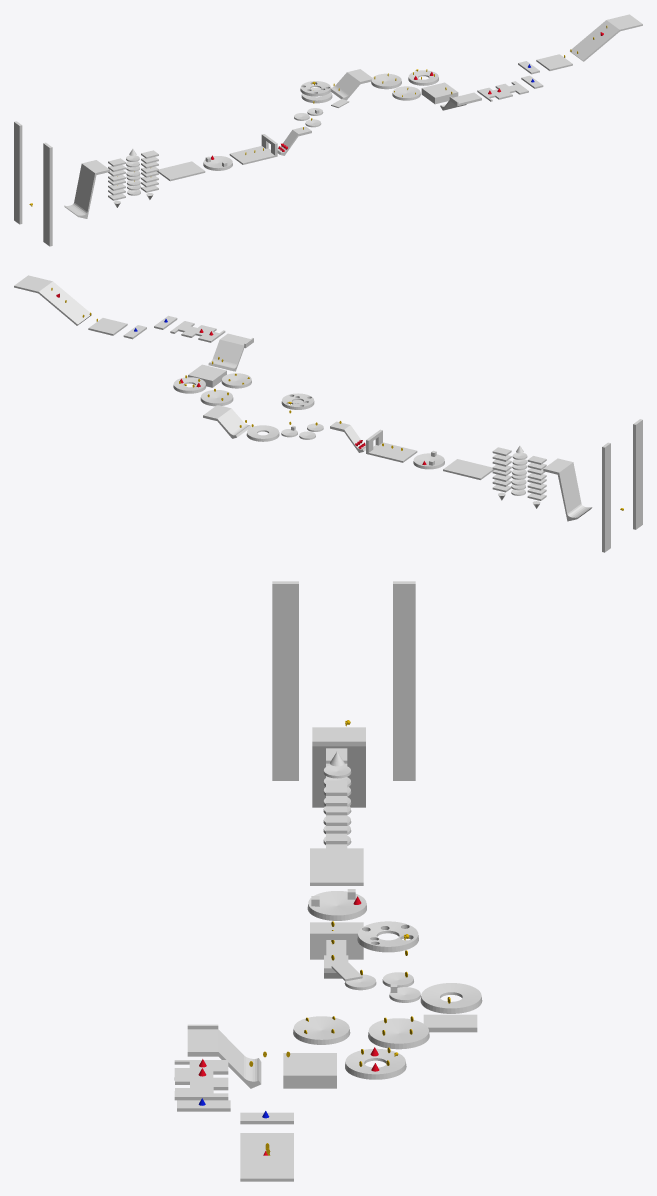
The model's file is LDD-2.fbx.
3 renders of one model, top to bottom at view 1: azimuth 30°, elevation 25°; view 2: azimuth 150°, elevation 25°; view 3: azimuth 270°, elevation 25°, orthographic. The views are drawn at different scales.
Parts seen in each view (by area): view 1: Cube.048, Cube.047, Cube.027, Cube.039, Cube.034, Cube.022, Cube.033, Cube.031, Torus.005, Cube.032, Cube.028, Torus.019 (+4 smaller); view 2: Cube.048, Cube.047, Cube.032, Cube.027, Cube.039, Cube.034, Cube.022, Cube.031, Cube.033, Torus.005, Torus.006, Cube.028 (+3 smaller); view 3: Cube.048, Cube.047, Cube.032, Cube.022, Cube.031, Cube.033, Cube.039, Torus.005, Torus.006, Torus.019, Cube.026, Torus.004 (+4 smaller).
Part boxes in pixels (bbox=[...]): Cube.048: bbox=[14, 121, 52, 246]; Cube.047: bbox=[64, 160, 109, 218]; Cube.027: bbox=[570, 20, 620, 61]; Cube.039: bbox=[229, 134, 277, 164]; Cube.034: bbox=[331, 69, 371, 100]; Cube.022: bbox=[157, 161, 205, 181]; Cube.033: bbox=[421, 82, 458, 104]; Cube.031: bbox=[477, 81, 528, 101]; Torus.005: bbox=[371, 73, 401, 89]; Cube.032: bbox=[440, 92, 481, 110]; Cube.028: bbox=[536, 54, 572, 70]; Torus.019: bbox=[300, 81, 331, 96]; Cube.048: bbox=[602, 419, 642, 552]; Cube.047: bbox=[543, 458, 592, 521]; Cube.032: bbox=[208, 333, 253, 371]; Cube.027: bbox=[38, 281, 91, 325]; Cube.039: bbox=[366, 429, 417, 462]; Cube.034: bbox=[203, 405, 250, 438]; Cube.022: bbox=[443, 459, 494, 479]; Cube.031: bbox=[170, 321, 225, 342]; Cube.033: bbox=[188, 364, 226, 387]; Torus.005: bbox=[200, 390, 233, 406]; Torus.006: bbox=[246, 425, 279, 441]; Cube.028: bbox=[88, 318, 127, 335]; Cube.048: bbox=[272, 581, 415, 780]; Cube.047: bbox=[312, 727, 365, 807]; Cube.032: bbox=[187, 1024, 261, 1088]; Cube.022: bbox=[310, 848, 363, 885]; Cube.031: bbox=[174, 1060, 228, 1100]; Cube.033: bbox=[283, 1053, 336, 1088]; Cube.039: bbox=[310, 922, 363, 959]; Torus.005: bbox=[368, 1018, 429, 1049]; Torus.006: bbox=[420, 983, 482, 1013]; Torus.019: bbox=[357, 921, 418, 952]; Cube.026: bbox=[240, 1155, 293, 1181]; Torus.004: bbox=[345, 1048, 406, 1079].
Size of the model in its own units: 5048 by 811 by 1146.
